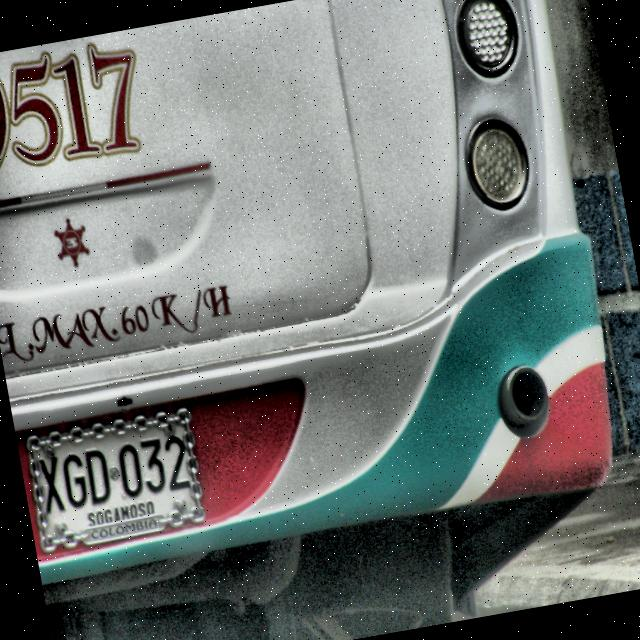plate: (27, 409, 204, 551)
